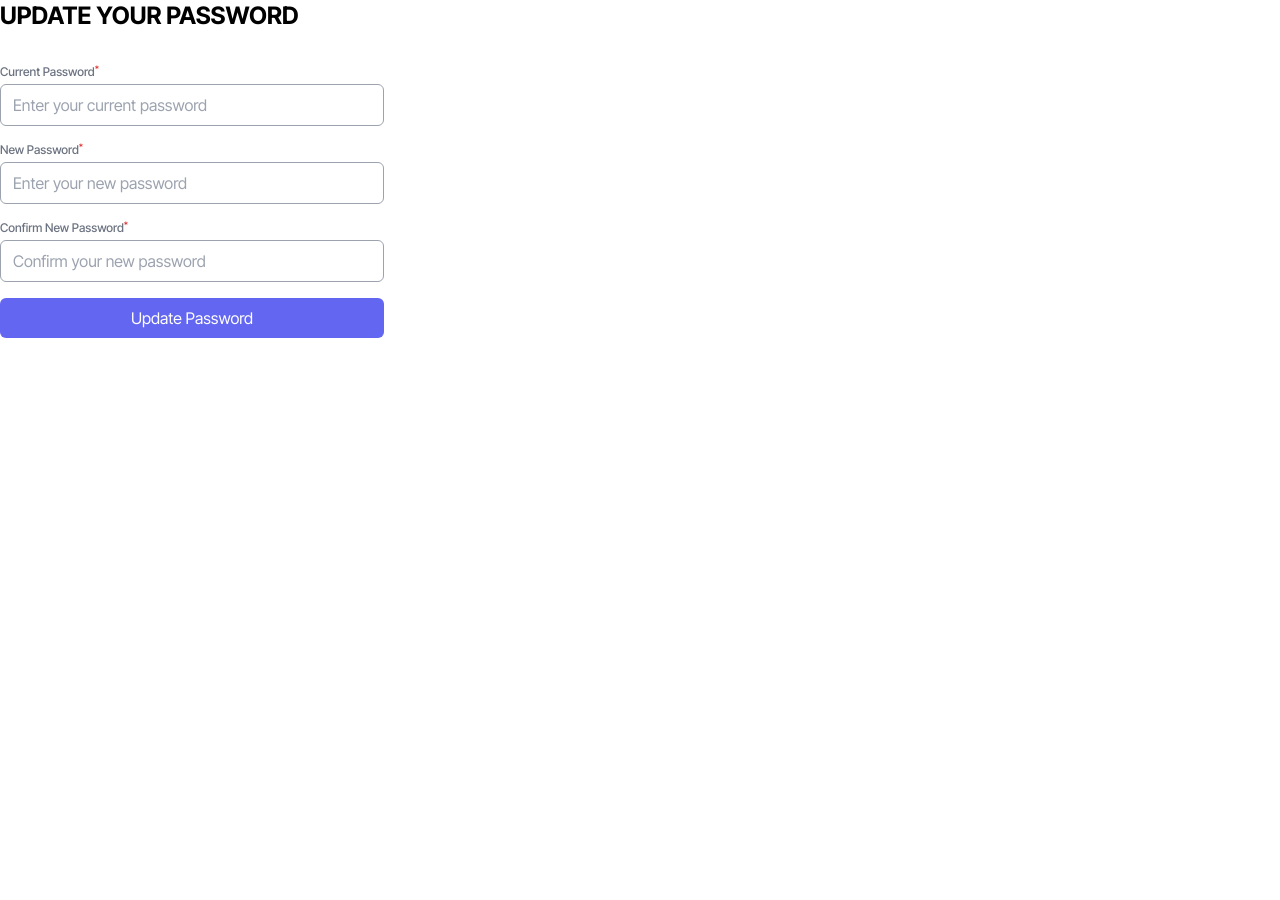
Scenario: UpdatePasswordForm component › displays error message when current password is incorrect
Type "qwerQWER1234!@" into the password field with test id "current-password-input" at point(192, 105), box [0,84,384,126]
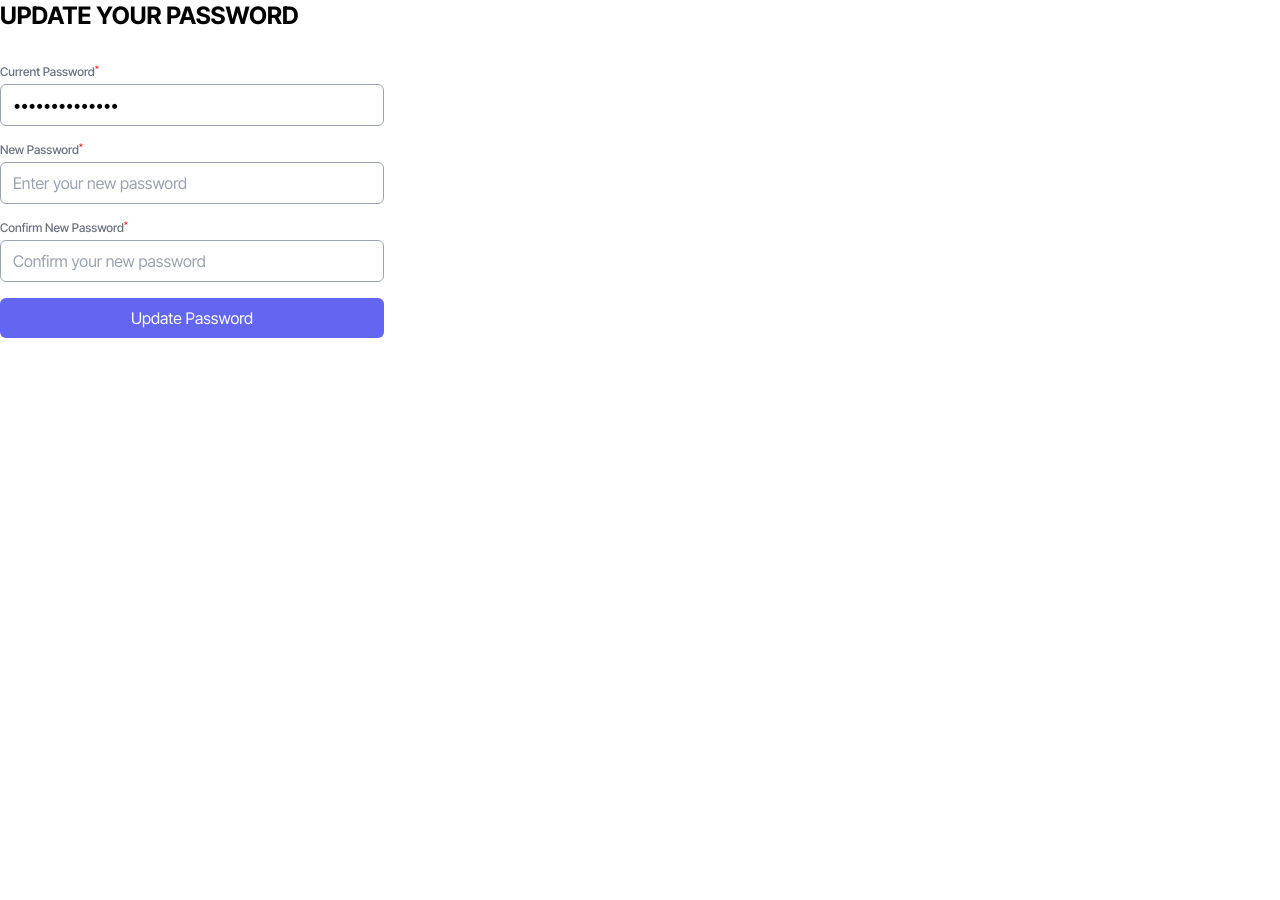
Type "qwerQWER1234!@@" into the password field with test id "new-password-input" at point(192, 183), box [0,162,384,204]
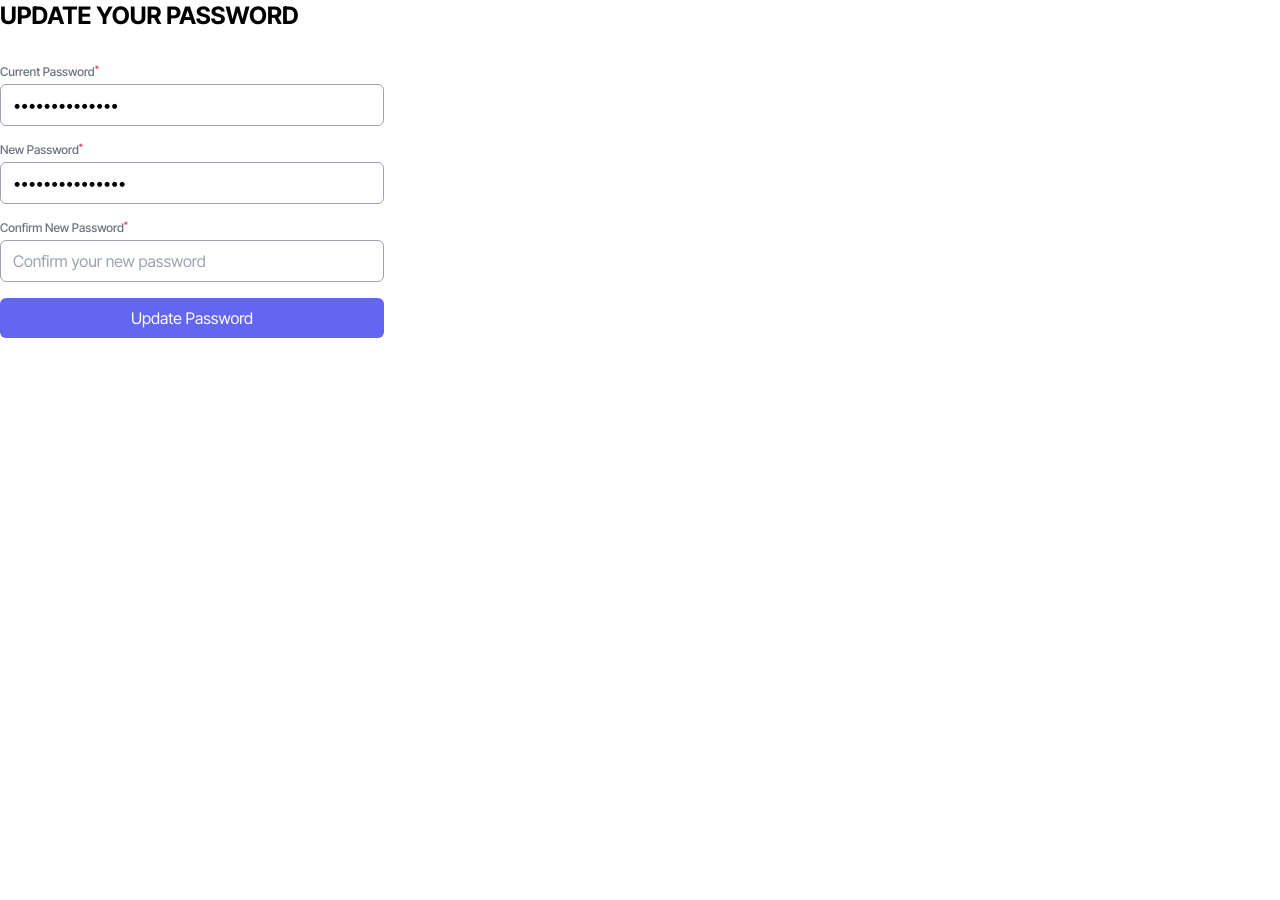
Type "qwerQWER1234!@@" into the password field with test id "confirm-password-input" at point(192, 261), box [0,240,384,282]
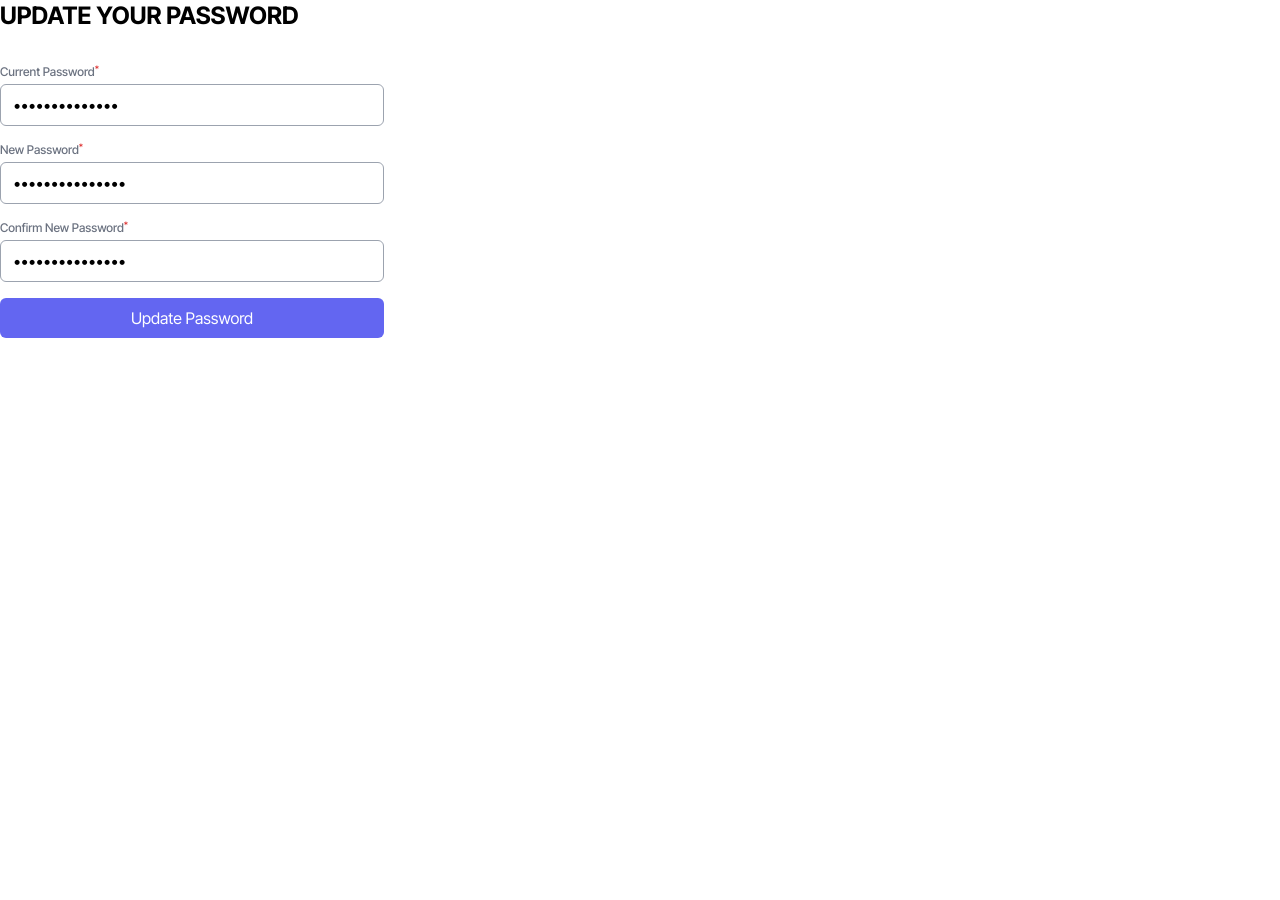
Click the button with test id "submit-button" at point(192, 318), box [0,298,384,338]
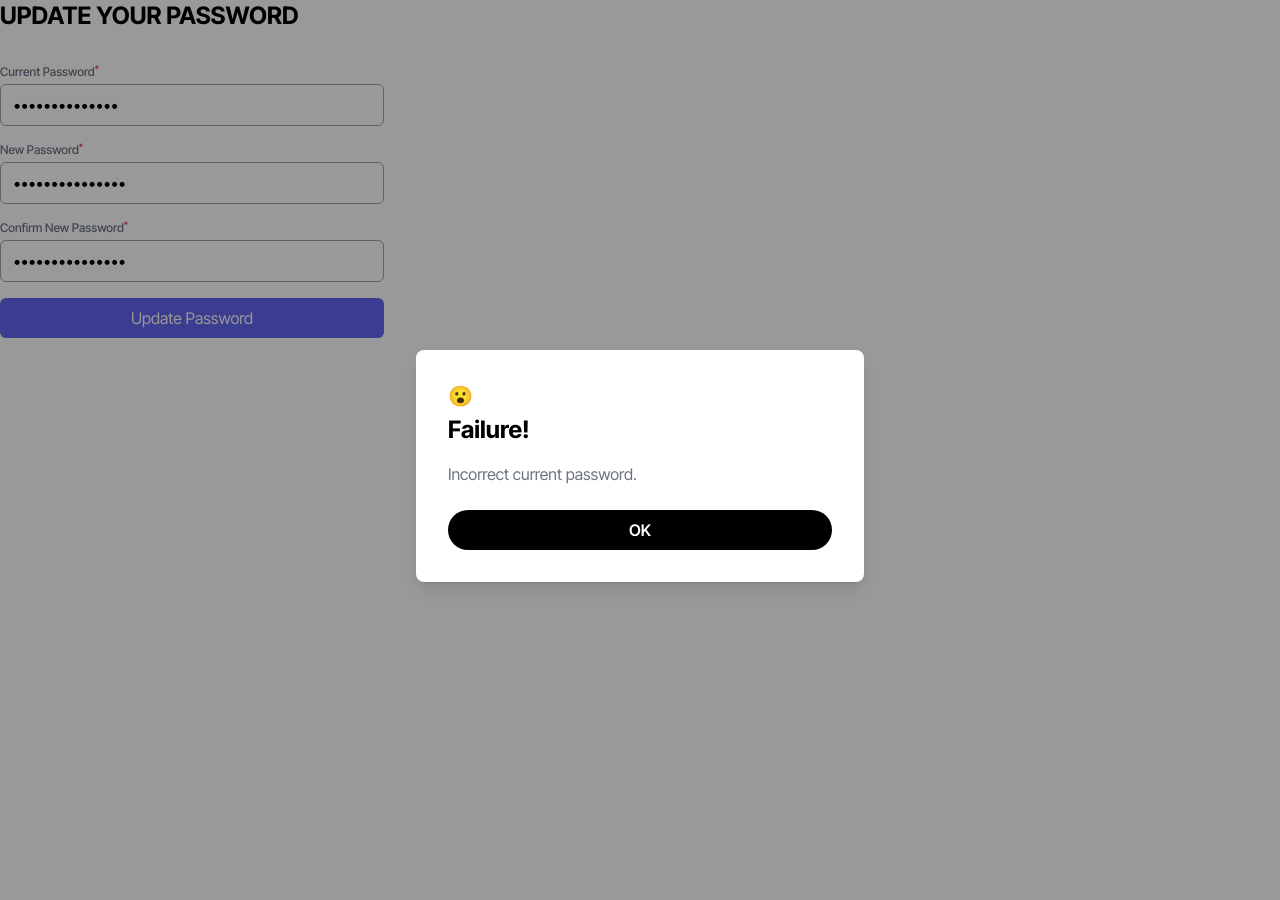
Now the text "Incorrect current password." is shown, box [448,464,637,484]
